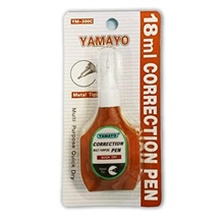book: (61, 9, 164, 211)
correction_fluid: (76, 46, 142, 194)
